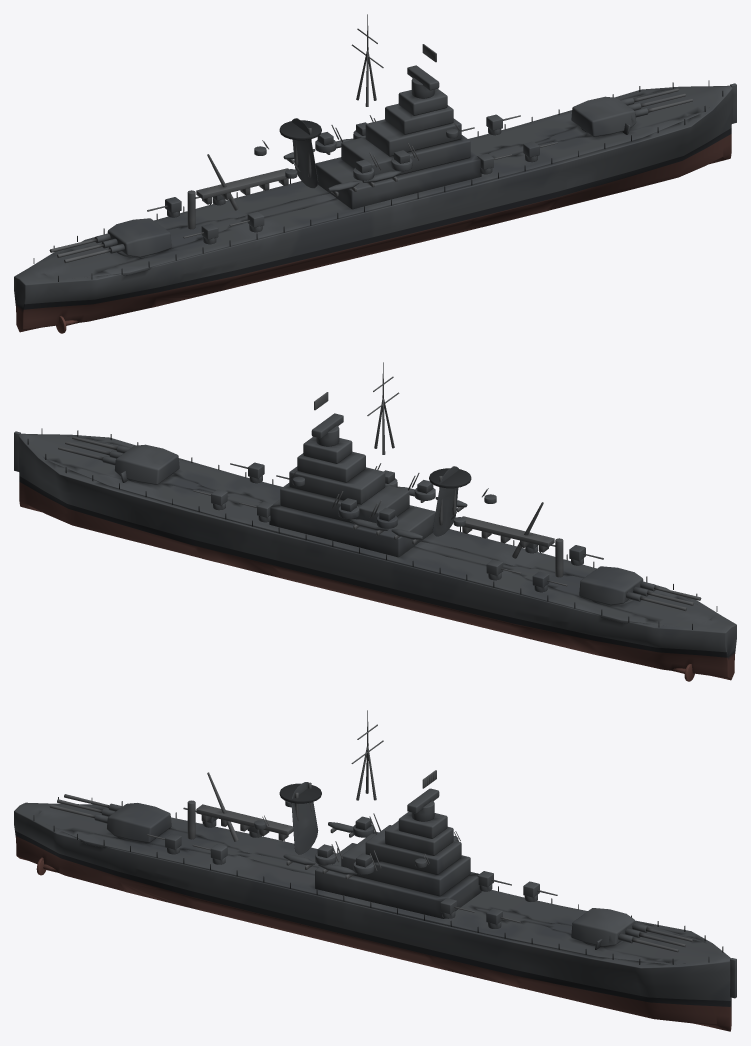
File: graf_spee.glb
3 views of the same model, one above another, from view 1: azimuth 30°, elevation 25°; view 2: azimuth 150°, elevation 25°; view 3: azimuth 330°, elevation 25° (orthographic).
Visible parts, largest first — view 1: hull, deck, tower, turret_b, turret_a, secondary, aa, catapult, funnel, boats, mast; view 2: hull, deck, tower, turret_b, turret_a, secondary, aa, catapult, funnel, boats, mast; view 3: hull, deck, tower, turret_b, turret_a, secondary, funnel, catapult, aa, boats, mast.
Part boxes in pixels (x1,y1,x2,y2): hull: (14,83,736,333); deck: (33,80,723,281); tower: (315,65,481,209); turret_b: (49,218,171,263); turret_a: (571,88,692,136); secondary: (147,114,557,244); aa: (254,115,460,180); catapult: (187,154,288,229); funnel: (279,118,321,188); boats: (283,138,401,196); mast: (351,14,383,106); hull: (14,431,736,681); deck: (27,428,717,629); tower: (269,413,435,557); turret_b: (579,566,701,611); turret_a: (58,436,179,484); secondary: (193,462,603,592); aa: (290,463,496,528); catapult: (462,502,563,577); funnel: (429,466,471,536); boats: (349,486,467,544); mast: (367,362,399,454); hull: (14,802,736,1031); deck: (33,797,723,964); tower: (315,788,481,918); turret_b: (49,794,171,842); turret_a: (571,908,692,952); secondary: (147,807,557,928); funnel: (279,782,321,854); catapult: (187,772,293,841); aa: (254,801,460,874); boats: (283,822,378,879); mast: (351,710,383,800).
Size of the model in its own units: 187 by 58.6 by 22.89.
